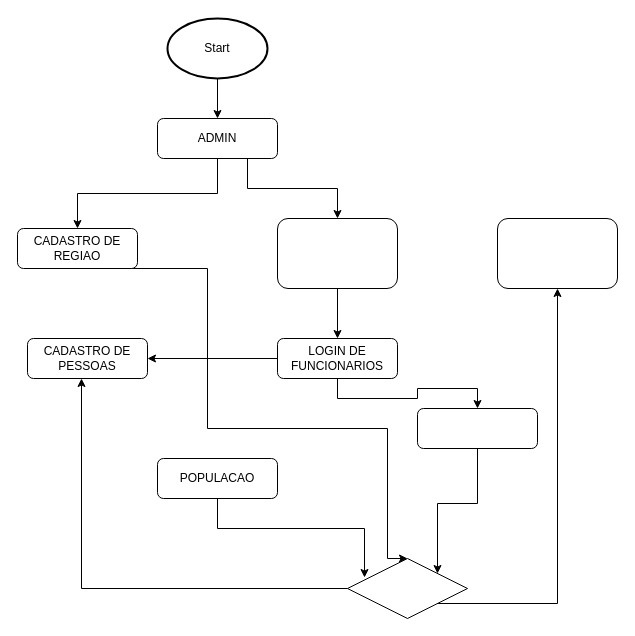
The diagram is 635 pixels wide and 636 high, and some of its shapes have lost their labels. The centre of each missing label's shape, as x and y in pixels:
"CADASTRO DE INDICADORES" belongs at [477,428].
"CADASTRO DOS FUNCIONARIOS DA UPA" belongs at [337,253].
"RELATORIOS DIARIO INDICADORES" belongs at [557,253].
